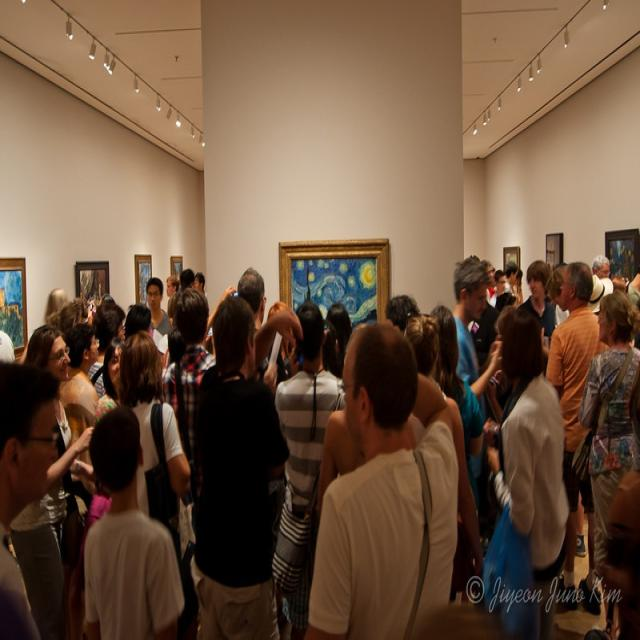body: (305, 317, 462, 640), (185, 288, 294, 639), (472, 296, 575, 639), (75, 399, 193, 639), (10, 322, 99, 639), (270, 296, 347, 640), (572, 283, 639, 639), (546, 260, 608, 620), (0, 355, 61, 640), (427, 305, 486, 597), (304, 404, 425, 532), (118, 328, 193, 533), (451, 254, 506, 514), (159, 286, 216, 497), (428, 302, 485, 460), (56, 319, 102, 511), (514, 257, 558, 381), (252, 299, 309, 389), (85, 298, 127, 399), (584, 247, 640, 322), (236, 266, 270, 369), (40, 282, 116, 328), (92, 334, 126, 430), (321, 301, 354, 375), (568, 481, 598, 559), (481, 256, 523, 310), (384, 286, 422, 338), (145, 275, 175, 337), (545, 260, 571, 324), (470, 310, 502, 358), (122, 299, 151, 333), (0, 324, 18, 374), (166, 328, 184, 368), (178, 268, 205, 294), (166, 274, 180, 316), (204, 322, 216, 358), (175, 293, 182, 327)
